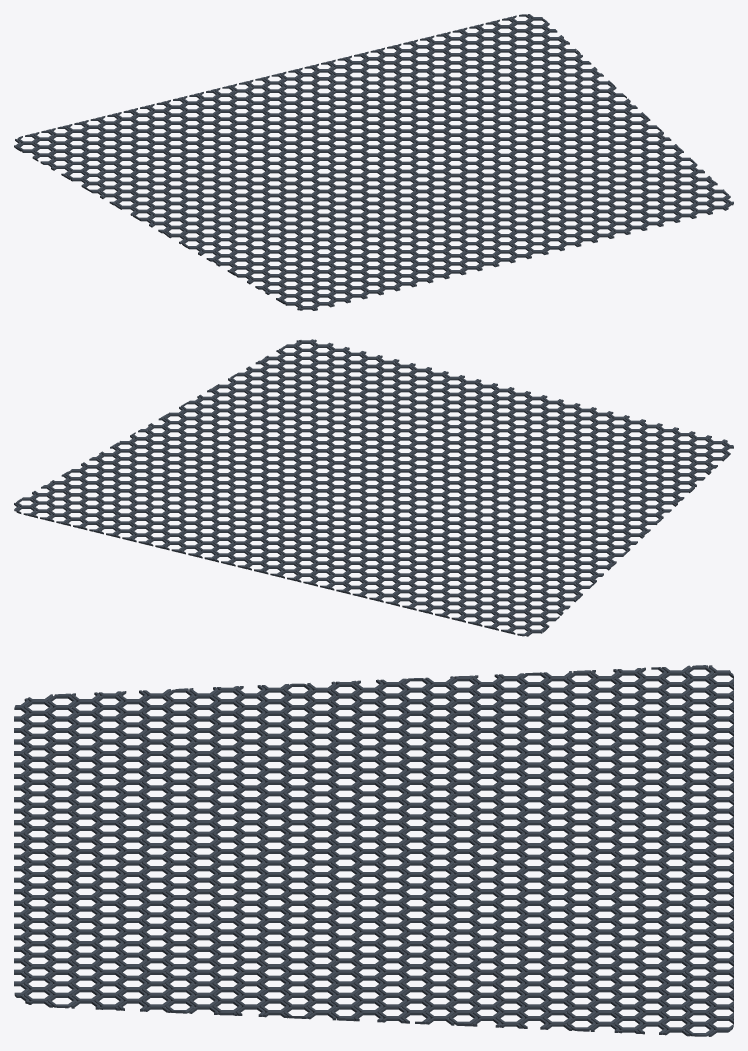
Rendered from Env_Floor.fbx.
3 views of the same model, one above another, from view 1: azimuth 30°, elevation 25°; view 2: azimuth 150°, elevation 25°; view 3: azimuth 270°, elevation 25° (orthographic). The views are drawn at different scales.
Visible parts, largest first — view 1: Circle.002; view 2: Circle.002; view 3: Circle.002.
Part boxes in pixels (bbox=[...]): Circle.002: bbox=[14, 14, 733, 310]; Circle.002: bbox=[14, 339, 733, 636]; Circle.002: bbox=[14, 665, 733, 1036].
Size of what is drawn, in the model's own units: 654 by 1.89 by 538.
